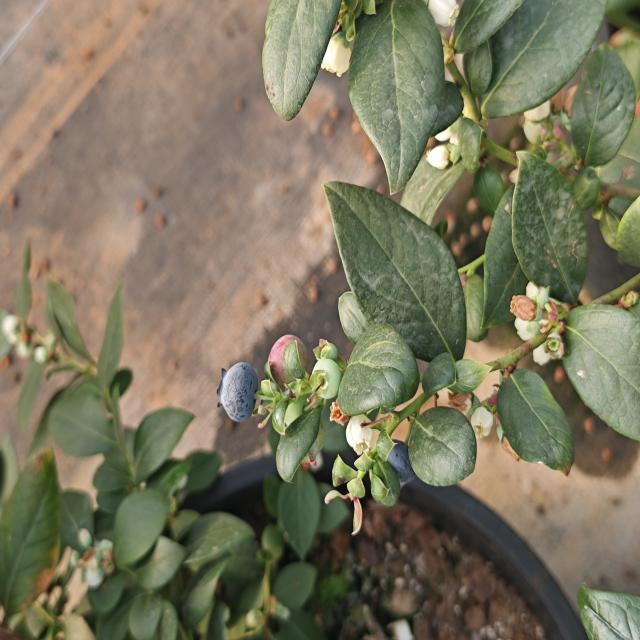ripe: (375, 433, 430, 499), (212, 359, 258, 426)
